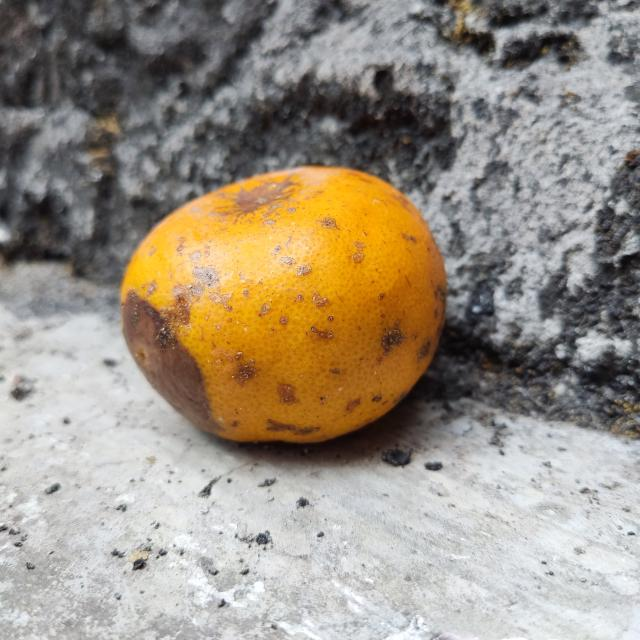orange: (116, 164, 448, 454)
